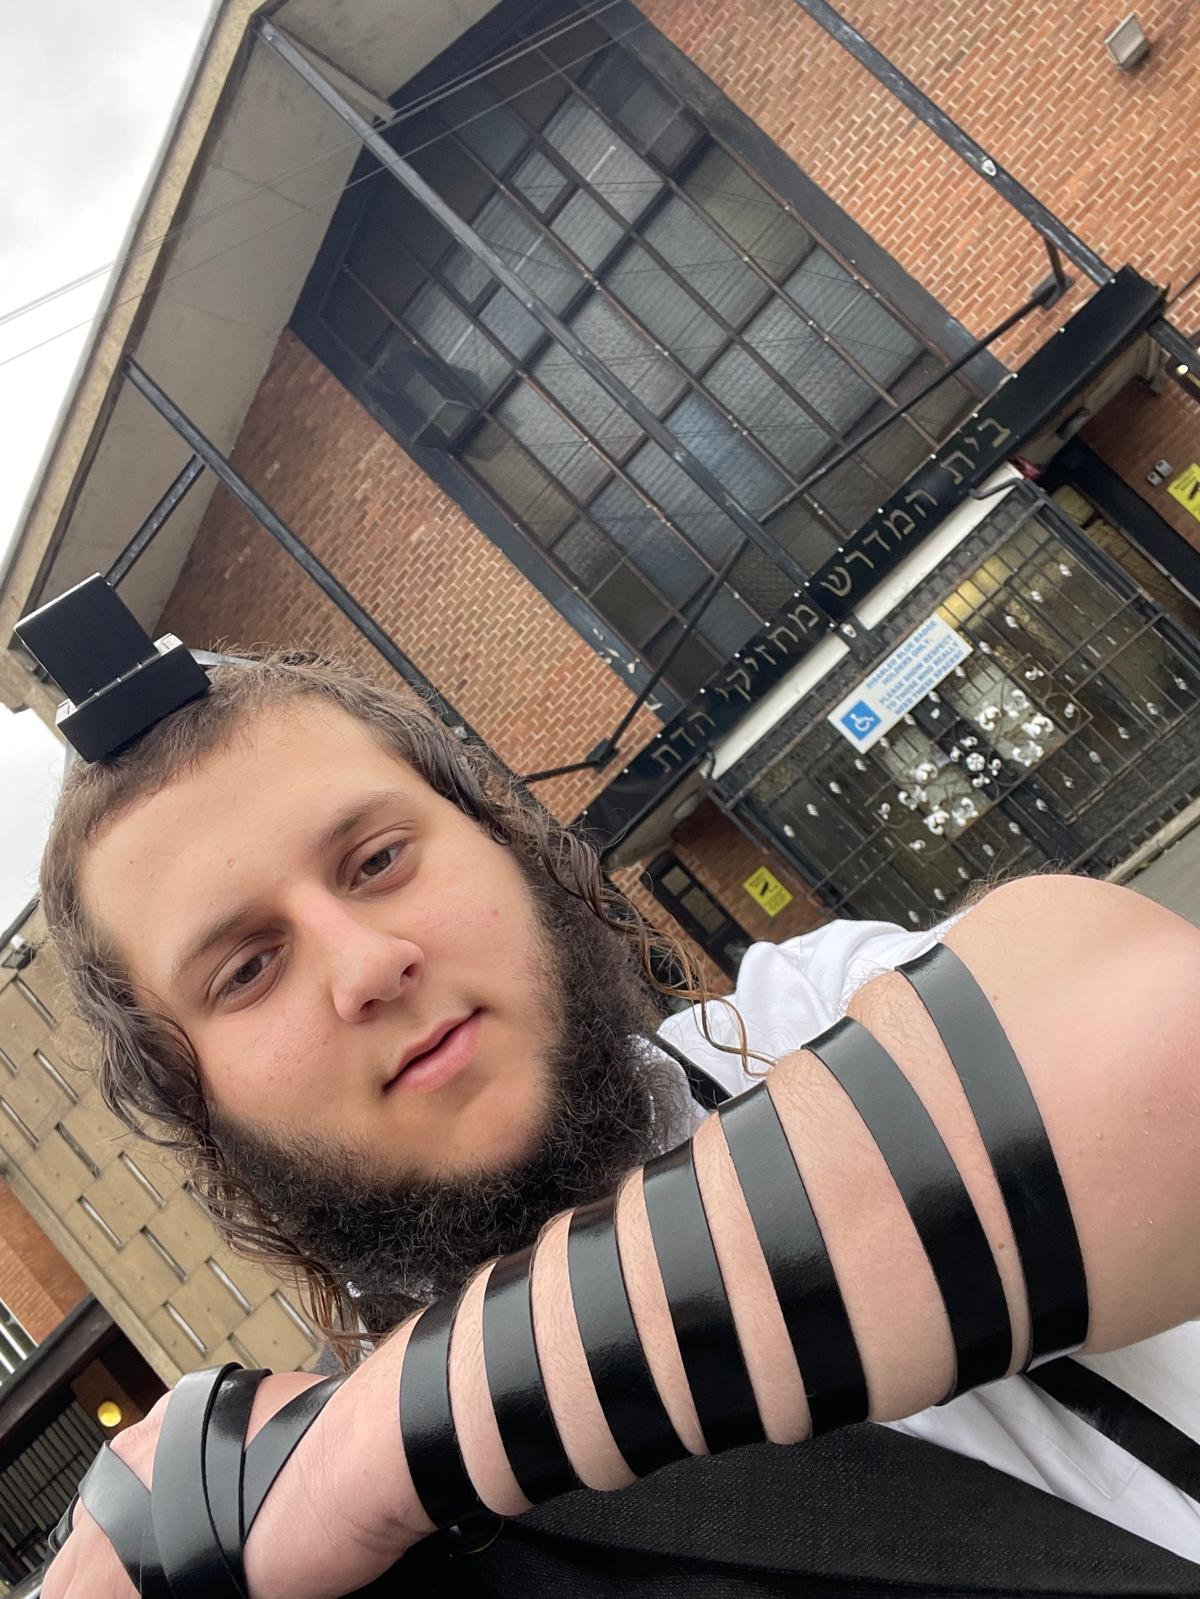tefillin: (6, 573, 212, 765)
